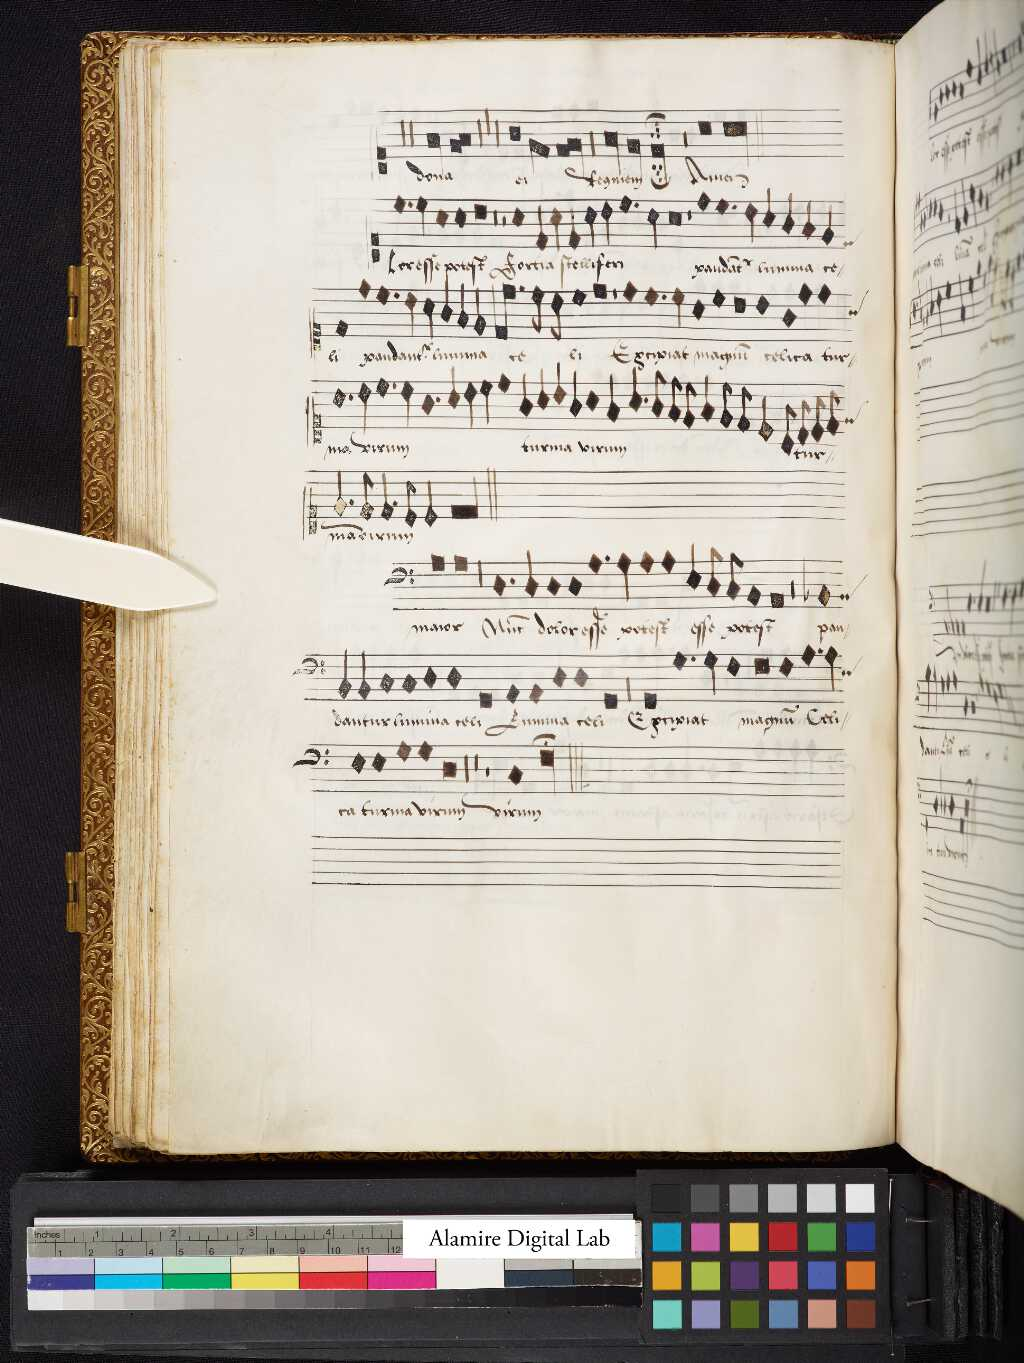c clef_11: (300, 385, 328, 455)
colored semibreve_3: (492, 366, 513, 400)
colored semibreve_4: (371, 370, 392, 404)
colored semibreve_6: (581, 378, 605, 418), (327, 380, 349, 415)
colored semibreve_7: (416, 387, 437, 425)
custos_9: (837, 397, 876, 440)
fusa_10: (735, 383, 756, 444), (825, 384, 844, 446)
fusa_11: (811, 388, 828, 452)
fusa_12: (795, 389, 812, 455)
fusa_13: (777, 389, 798, 467)
fusa_7: (649, 360, 668, 427)
fusa_8: (664, 384, 684, 434)
fusa_9: (679, 385, 699, 441), (717, 384, 737, 440)
point: (638, 388, 651, 411), (430, 391, 444, 408), (343, 387, 356, 406)
semibreve rest: (387, 384, 399, 434)
semiminim_11: (755, 387, 776, 448)
semiminim_4: (479, 373, 495, 430)
semiminim_5: (399, 372, 416, 434), (357, 383, 375, 439), (463, 374, 479, 435), (551, 358, 567, 411)
semiminim_6: (626, 364, 643, 418), (445, 363, 461, 414), (535, 363, 551, 414)
semiminim_7: (516, 366, 534, 424), (568, 365, 584, 425)
semiminim_8: (699, 368, 717, 429), (605, 368, 621, 429)
